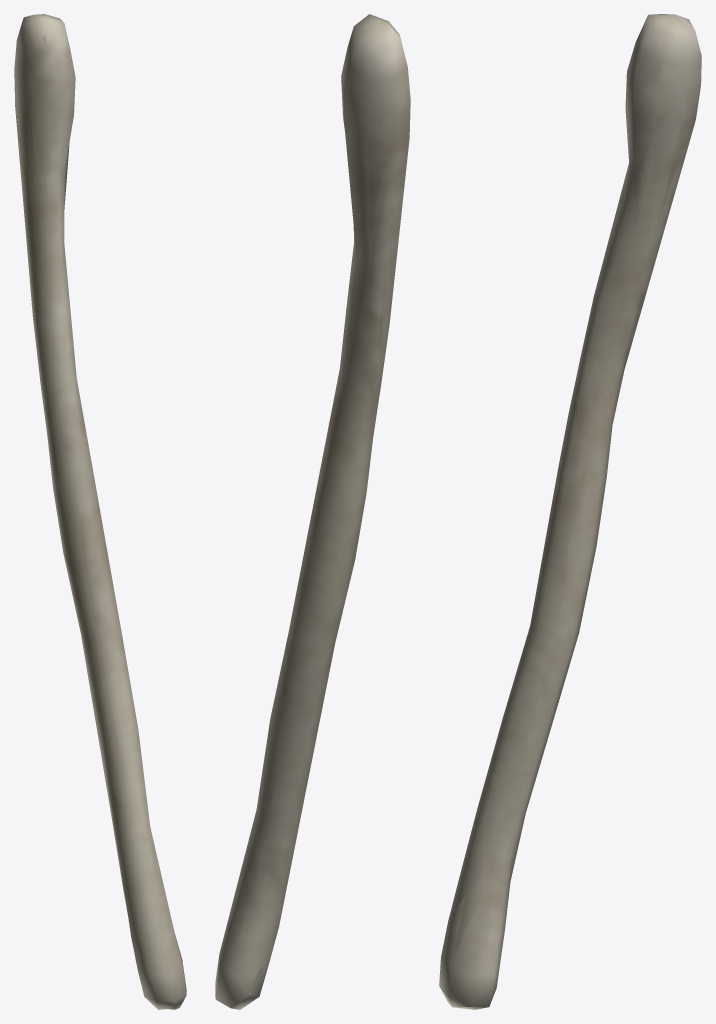
File: L metatarsi quartum.fbx
3 views of the same model, side by side, from view 1: azimuth 30°, elevation 25°; view 2: azimuth 210°, elevation 25°; view 3: azimuth 270°, elevation 25° (orthographic). The views are drawn at different scales.
Parts seen in each view (by area): view 1: L metatarsi quartum, L metatarsi quartum low, L metatarsi quartum high; view 2: L metatarsi quartum, L metatarsi quartum low, L metatarsi quartum high; view 3: L metatarsi quartum, L metatarsi quartum low, L metatarsi quartum high.
Part boxes in pixels (<box>): L metatarsi quartum: <box>14,14,186,1009</box>; L metatarsi quartum low: <box>15,16,184,1009</box>; L metatarsi quartum high: <box>19,20,171,1006</box>; L metatarsi quartum: <box>215,14,410,1009</box>; L metatarsi quartum low: <box>215,15,409,1007</box>; L metatarsi quartum high: <box>224,29,394,1002</box>; L metatarsi quartum: <box>439,14,701,1006</box>; L metatarsi quartum low: <box>441,14,698,1009</box>; L metatarsi quartum high: <box>464,21,691,1007</box>.
Bounding box in the file's own units: 0.5055 × 5.57 × 1.36.
Materials: 1 (1 with a texture image).
